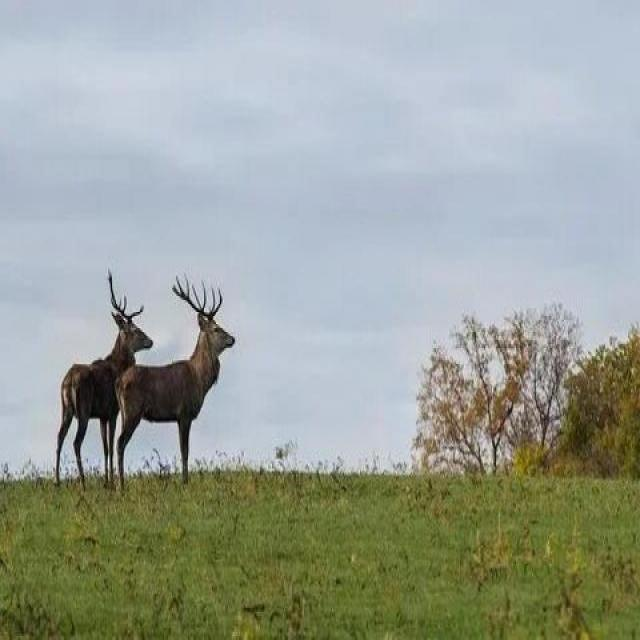deer: (96, 215, 256, 512), (34, 241, 150, 482)
